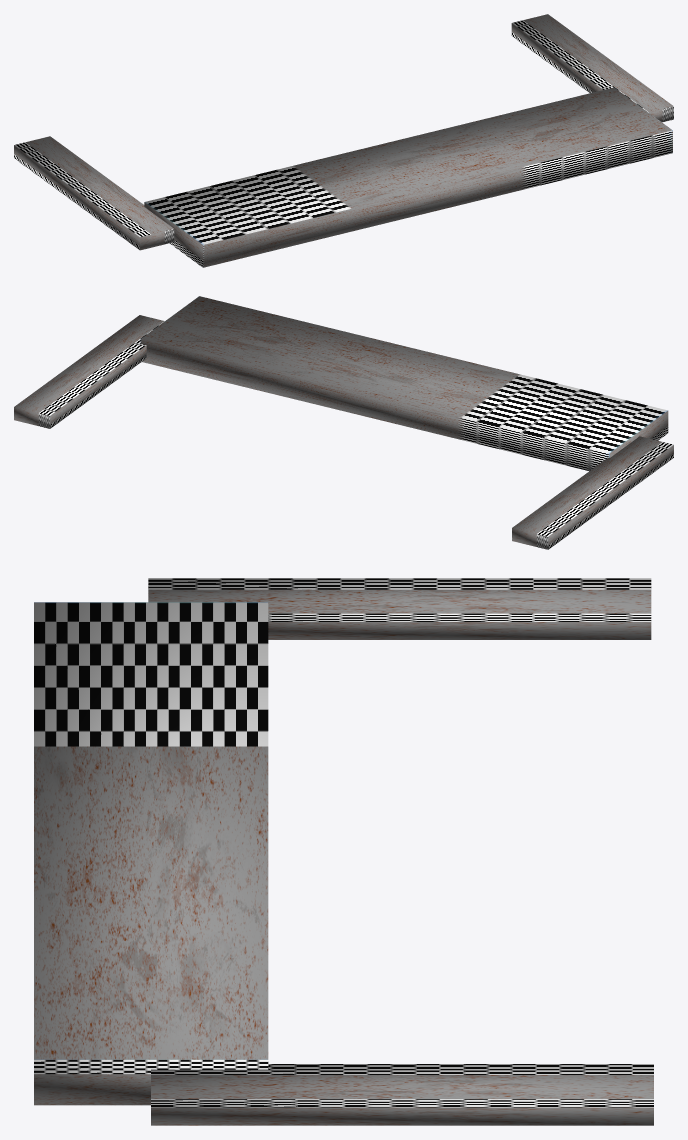
The model's file is aws_Billboard_01_collision.obj.
The picture shows the model from 3 angles, top to bottom: view 1: azimuth 30°, elevation 25°; view 2: azimuth 150°, elevation 25°; view 3: azimuth 270°, elevation 25°; orthographic projection. The views are drawn at different scales.
Bounding box in the file's own units: 1584 × 64.76 × 797.
